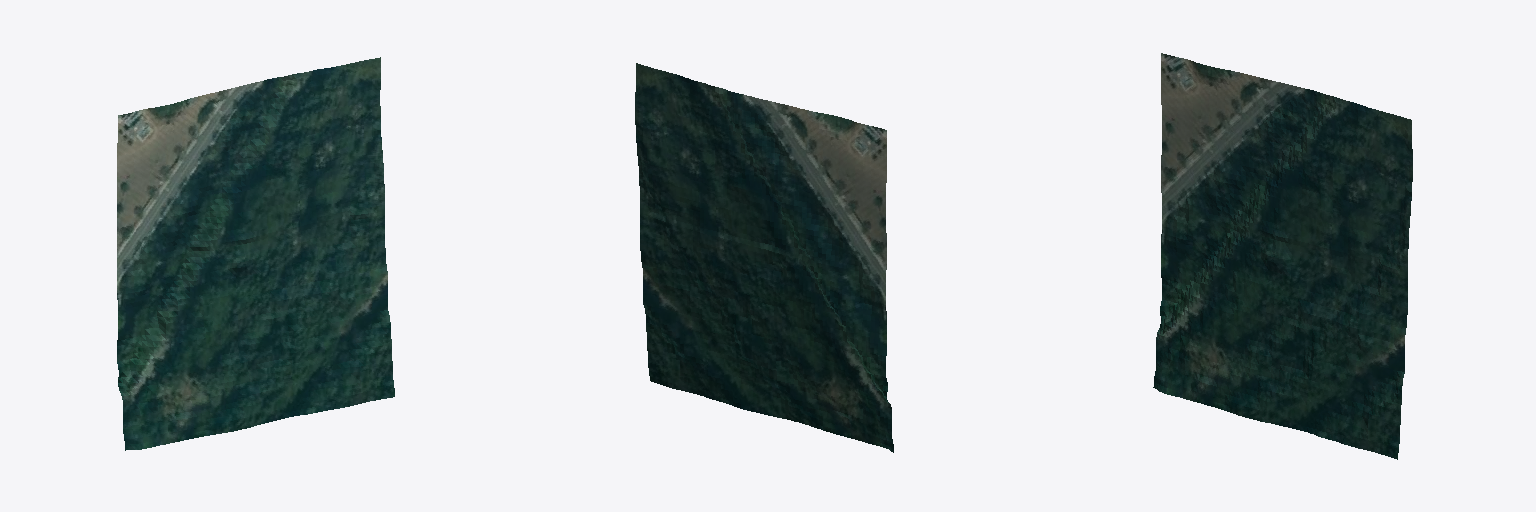
The picture shows the model from 3 angles: view 1: azimuth 30°, elevation 25°; view 2: azimuth 150°, elevation 25°; view 3: azimuth 330°, elevation 25°; orthographic projection.
Visible parts, largest first — view 1: 281397_113919; view 2: 281397_113919; view 3: 281397_113919.
Part boxes in pixels (bbox=[...]): 281397_113919: bbox=[117, 57, 394, 450]; 281397_113919: bbox=[635, 63, 893, 452]; 281397_113919: bbox=[1153, 53, 1412, 459].
Bounding box in the file's own units: 122 × 150 × 17.66.
1 materials, 1 textured.